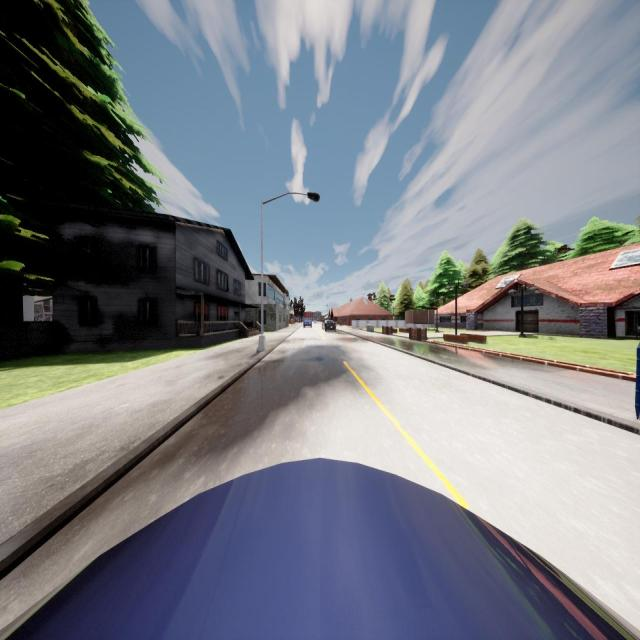Pedestrian: (290, 316, 294, 326)
Vehicle: (0, 458, 640, 640), (325, 319, 336, 332), (304, 318, 312, 328)
